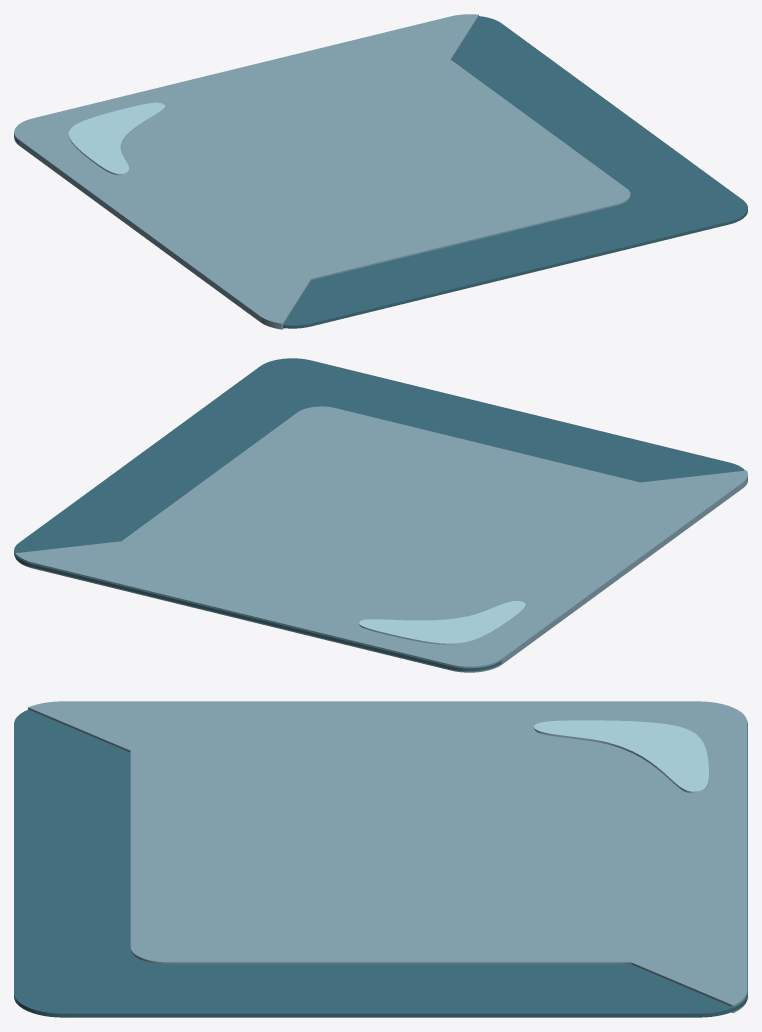
The model's file is emoji_u20e3.glb.
3 renders of one model, top to bottom at view 1: azimuth 30°, elevation 25°; view 2: azimuth 150°, elevation 25°; view 3: azimuth 270°, elevation 25°, orthographic. The views are drawn at different scales.
Visible parts, largest first — view 1: emoji_u20e3; view 2: emoji_u20e3; view 3: emoji_u20e3.
Part boxes in pixels (x1,y1,x2,y2): emoji_u20e3: [14, 14, 747, 329]; emoji_u20e3: [14, 358, 747, 672]; emoji_u20e3: [14, 701, 747, 1017].
Size of the model in its own units: 0.0339 by 0.0006 by 0.0339.
